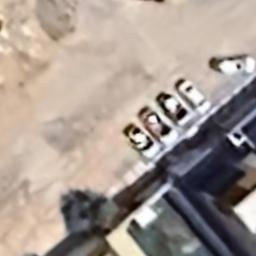sedan: (176, 76, 212, 118), (140, 110, 178, 146), (124, 125, 159, 160), (157, 92, 192, 126)
unknown: (216, 54, 256, 74)
